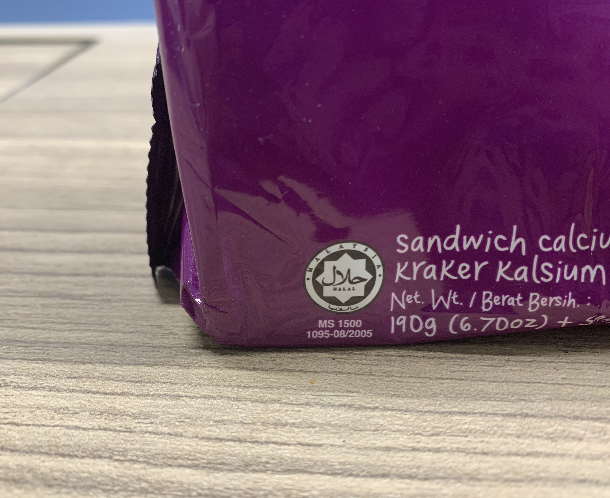halal: (320, 256, 373, 301)
